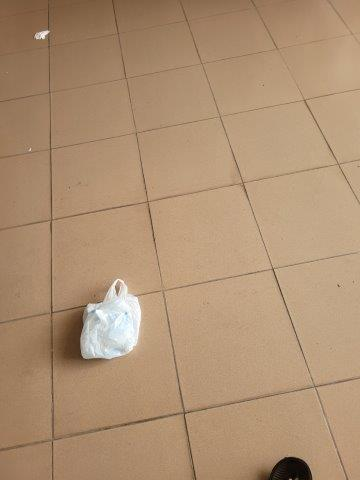plastik: (79, 278, 141, 360)
